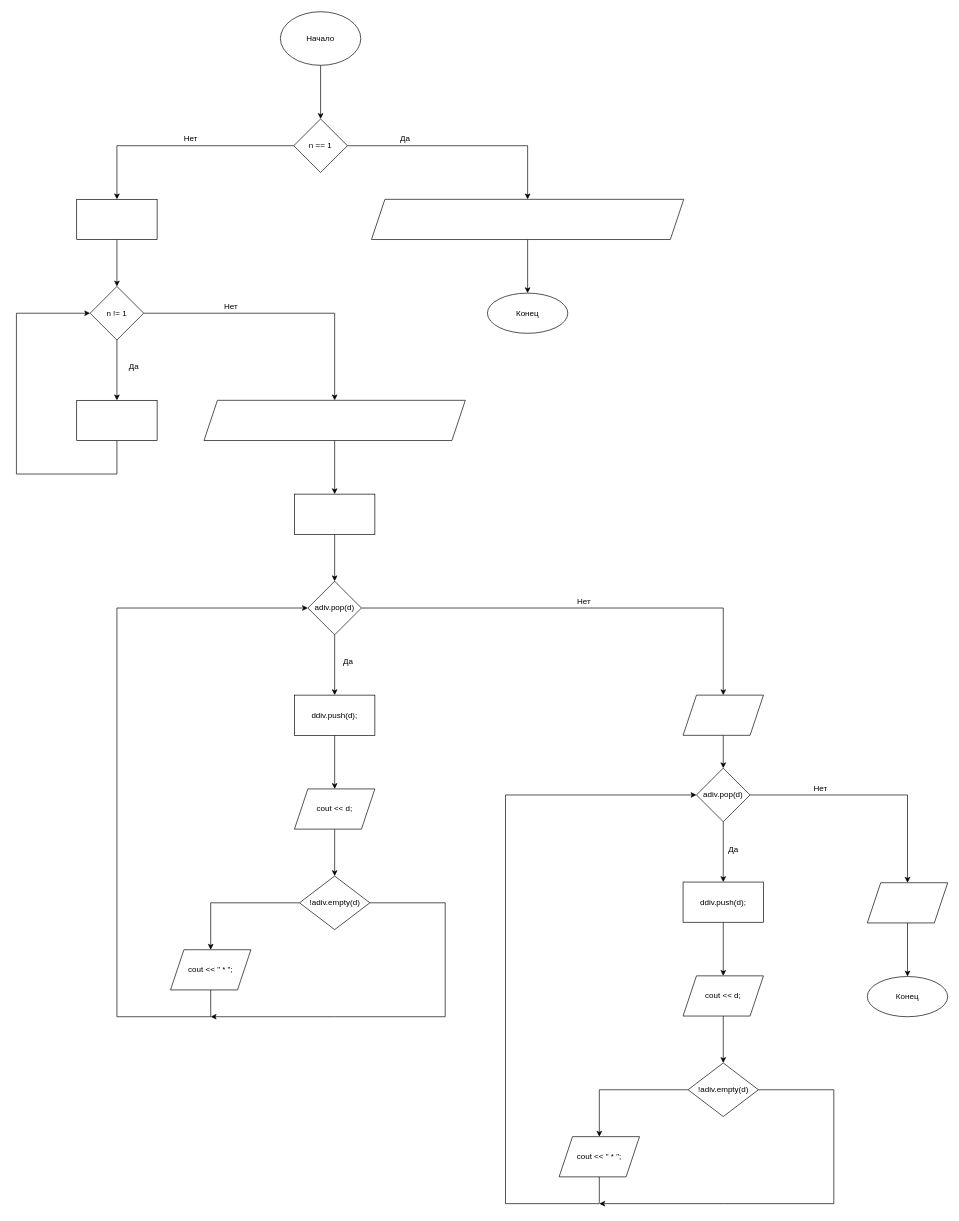
Image size: 959x1221. Some labels were removed from this diagram. The box of each missing label's shape, as (x1, y1, x2, y2) in pixels:
adiv.push(nod(n));: (76, 400, 157, 441)
cout << "\n\n\n";: (867, 882, 948, 923)
cout << "Количество множителей: " << adiv.size() << endl;: (203, 400, 465, 441)
cout << "Количество множителей: 1" << endl << "1" << endl << "1" << "\n\n\n";: (371, 199, 684, 240)
cout << endl;: (682, 694, 763, 735)
int d = 0;: (294, 493, 375, 534)
Stack adiv; Stack ddiv;: (76, 199, 157, 240)
